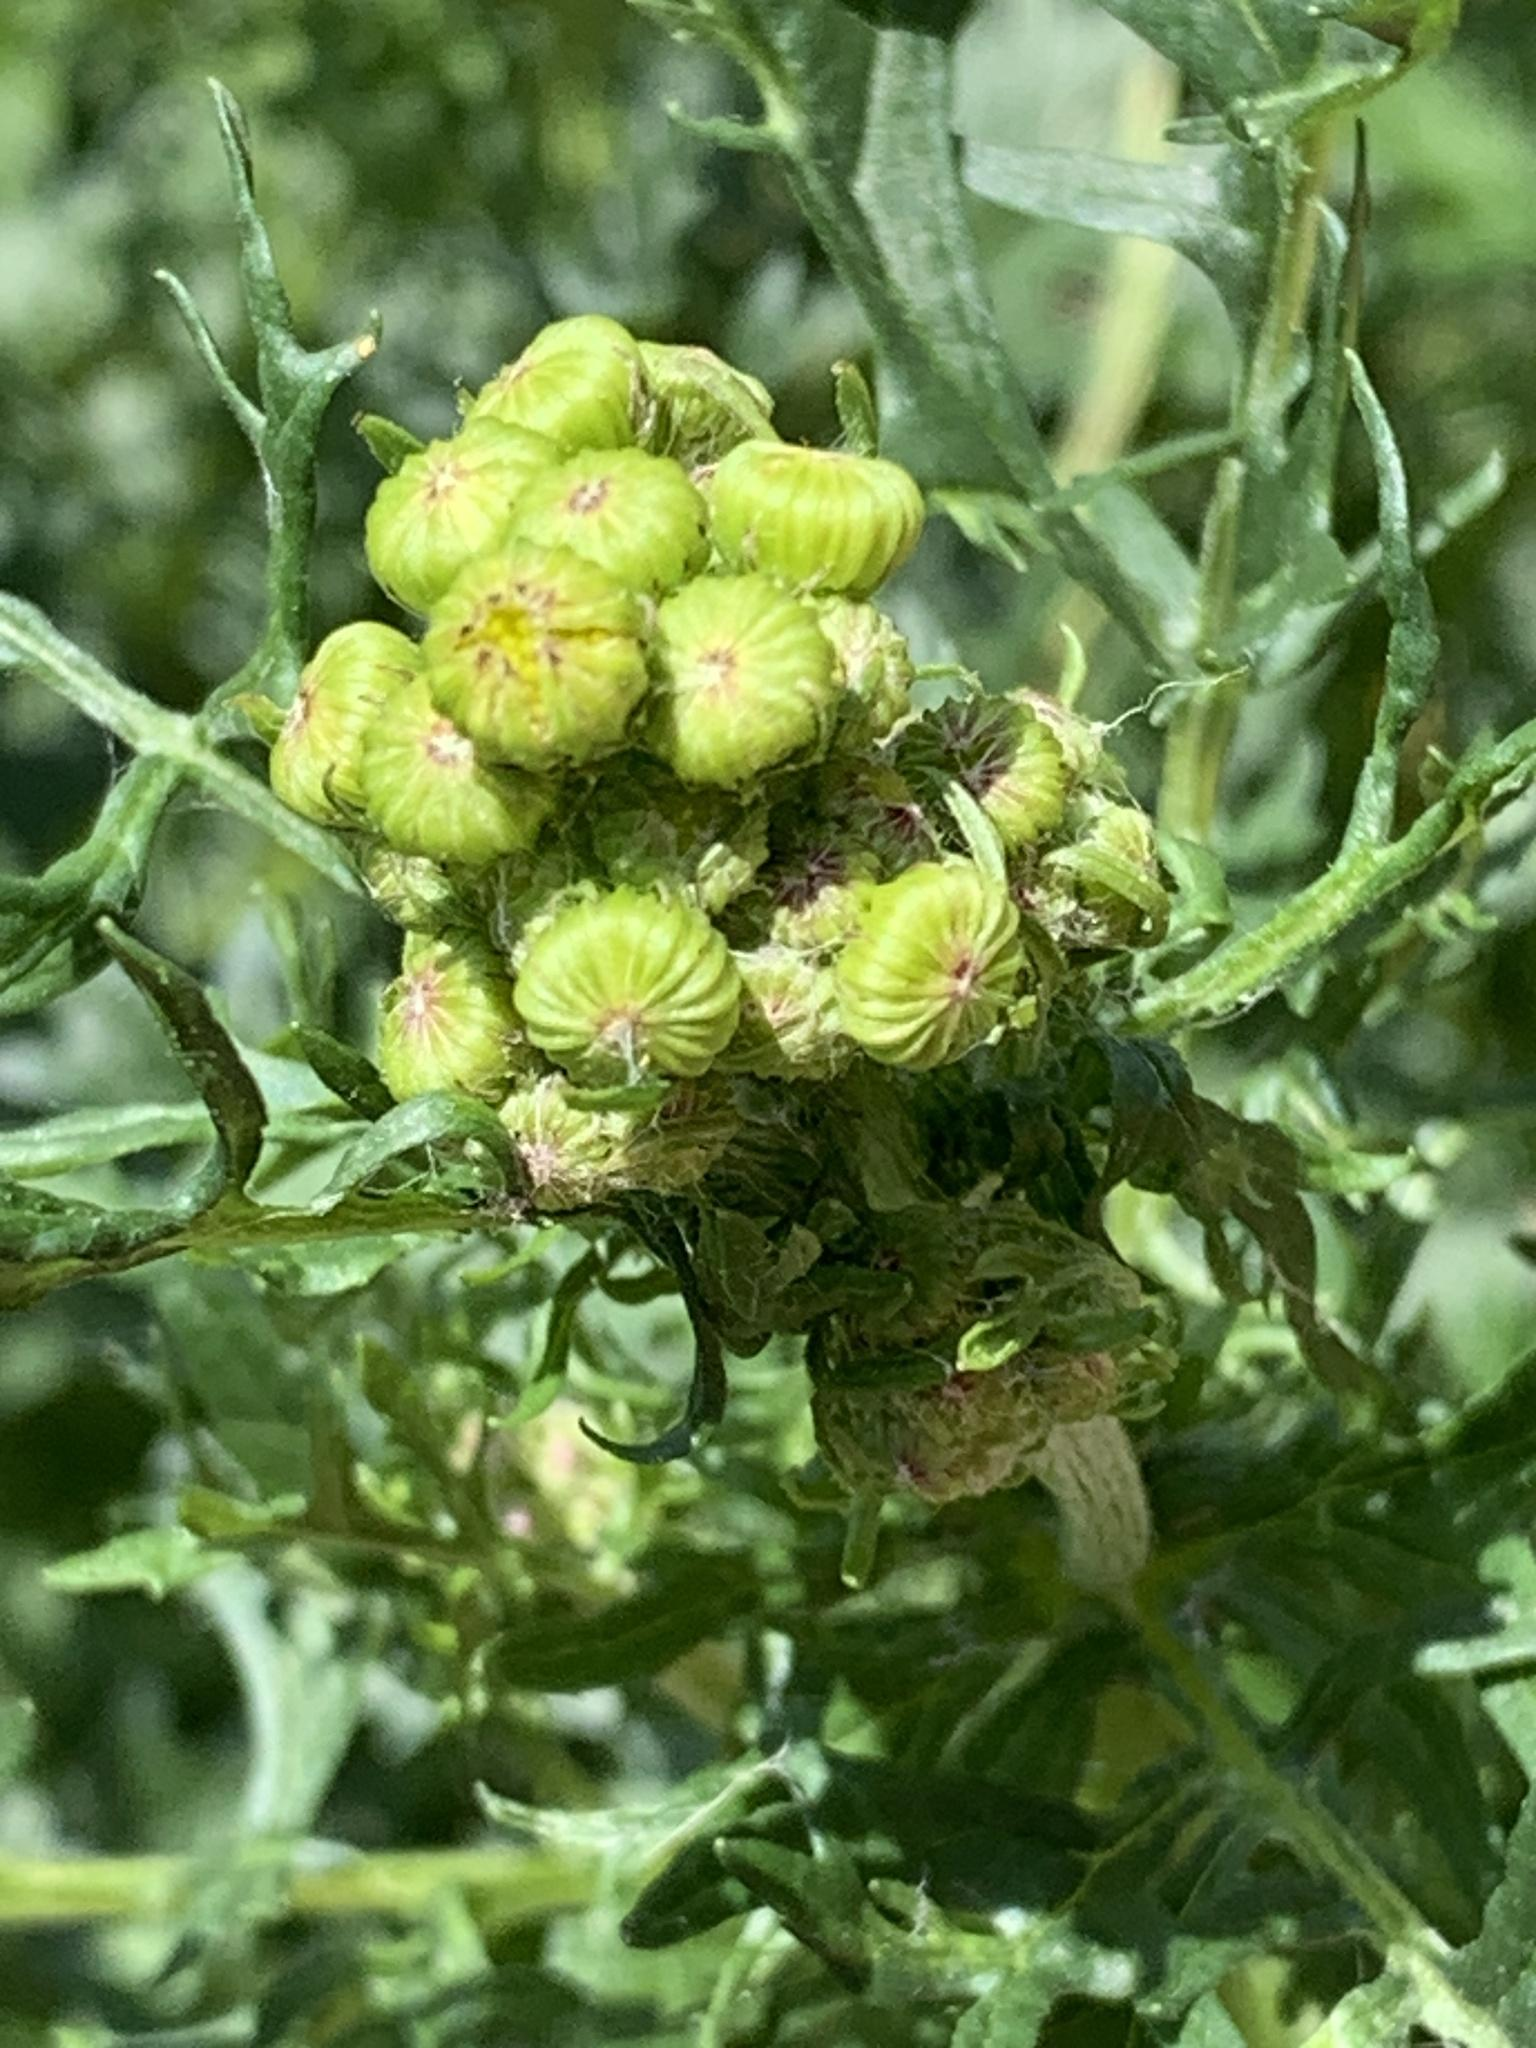Jacobaea vulgaris: (184, 206, 1367, 1884)
